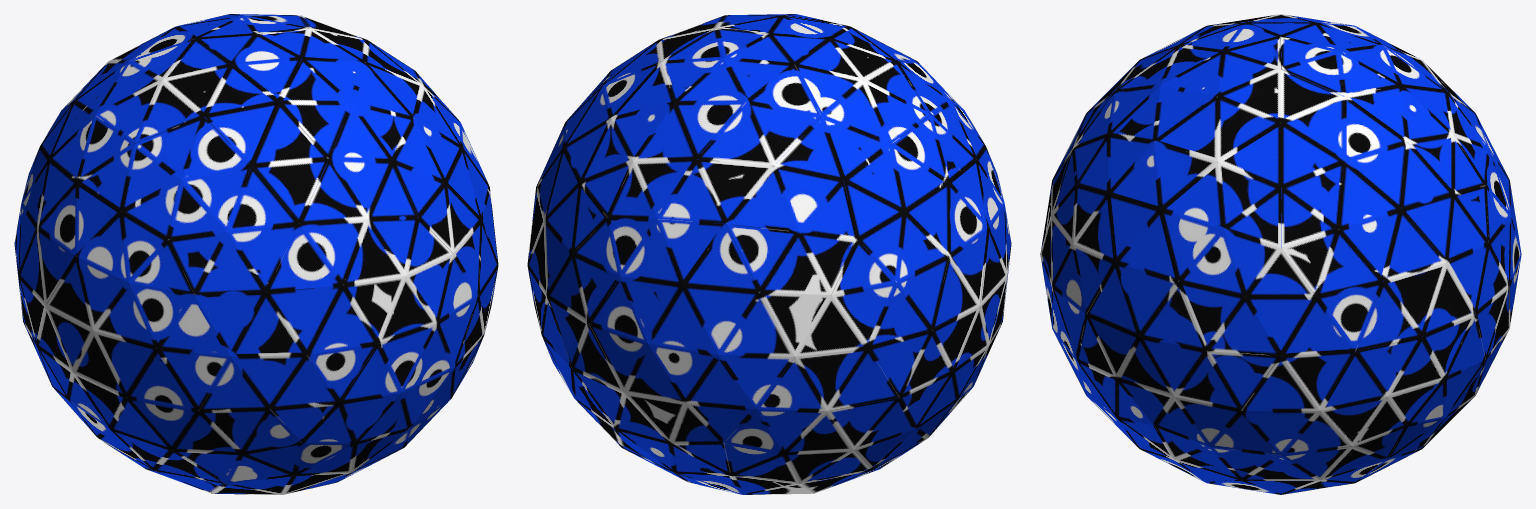
Rendered from Icosphere_shell.glb.
3 renders of one model, left to right at view 1: azimuth 30°, elevation 25°; view 2: azimuth 150°, elevation 25°; view 3: azimuth 270°, elevation 25°, orthographic.
Parts seen in each view (by area): view 1: ico-shell-col; view 2: ico-shell-col; view 3: ico-shell-col.
Part boxes in pixels (bbox=[...]): ico-shell-col: bbox=[14, 14, 498, 494]; ico-shell-col: bbox=[527, 14, 1011, 494]; ico-shell-col: bbox=[1040, 14, 1521, 494].
Bounding box in the file's own units: 66.86 × 66.86 × 66.86.
Materials: 1 (1 with a texture image).
